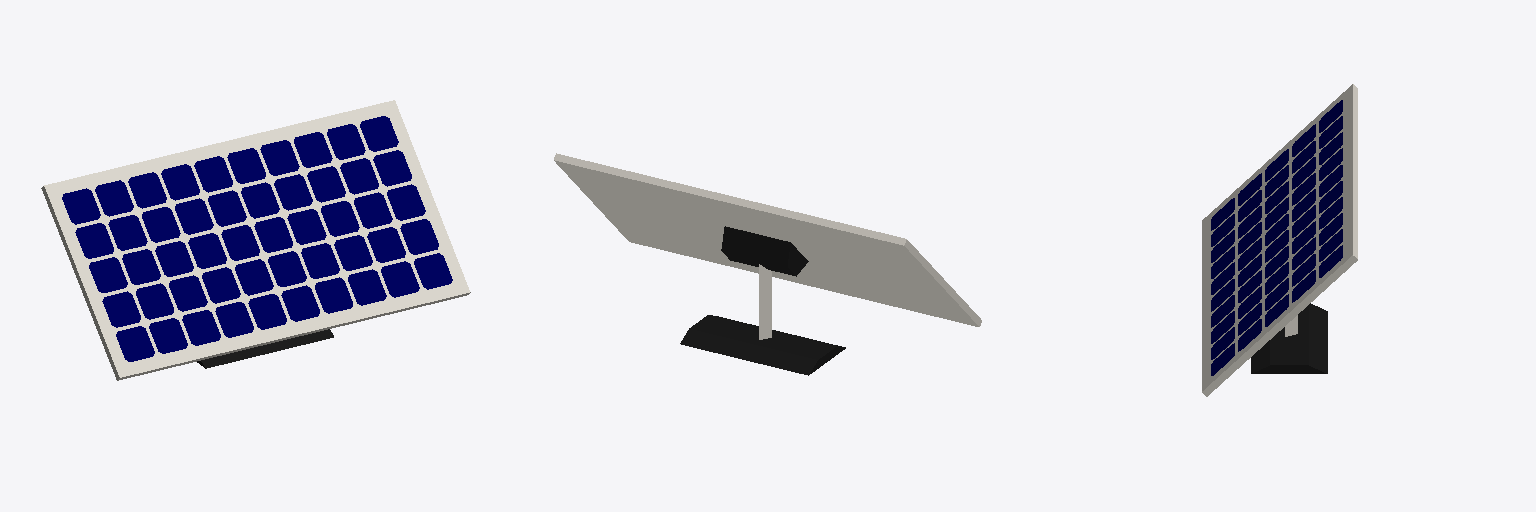
The model's file is SolarPanel.obj.
The picture shows the model from 3 angles: view 1: azimuth 30°, elevation 25°; view 2: azimuth 150°, elevation 25°; view 3: azimuth 270°, elevation 25°; orthographic projection.
Parts seen in each view (by area): view 1: object_52, object_53, object_39, object_47, object_8, object_9, object_11, object_18, object_22, object_25, object_45, object_54 (+28 smaller); view 2: object_52, object_53, object_51, object_50; view 3: object_52, object_53.
Part boxes in pixels (bbox=[...]): object_52: bbox=[41, 100, 470, 380]; object_53: bbox=[197, 329, 333, 368]; object_39: bbox=[340, 158, 378, 194]; object_47: bbox=[161, 164, 199, 200]; object_8: bbox=[414, 253, 452, 289]; object_9: bbox=[381, 261, 419, 297]; object_11: bbox=[122, 249, 160, 284]; object_18: bbox=[387, 184, 425, 220]; object_22: bbox=[235, 259, 273, 295]; object_25: bbox=[301, 243, 339, 278]; object_45: bbox=[260, 140, 299, 175]; object_54: bbox=[116, 326, 154, 361]; object_52: bbox=[554, 153, 981, 326]; object_53: bbox=[680, 315, 845, 375]; object_51: bbox=[721, 226, 808, 276]; object_50: bbox=[759, 264, 771, 339]; object_52: bbox=[1202, 84, 1357, 396]; object_53: bbox=[1251, 303, 1327, 373].
Size of the model in its own units: 212 by 99.96 by 82.02.